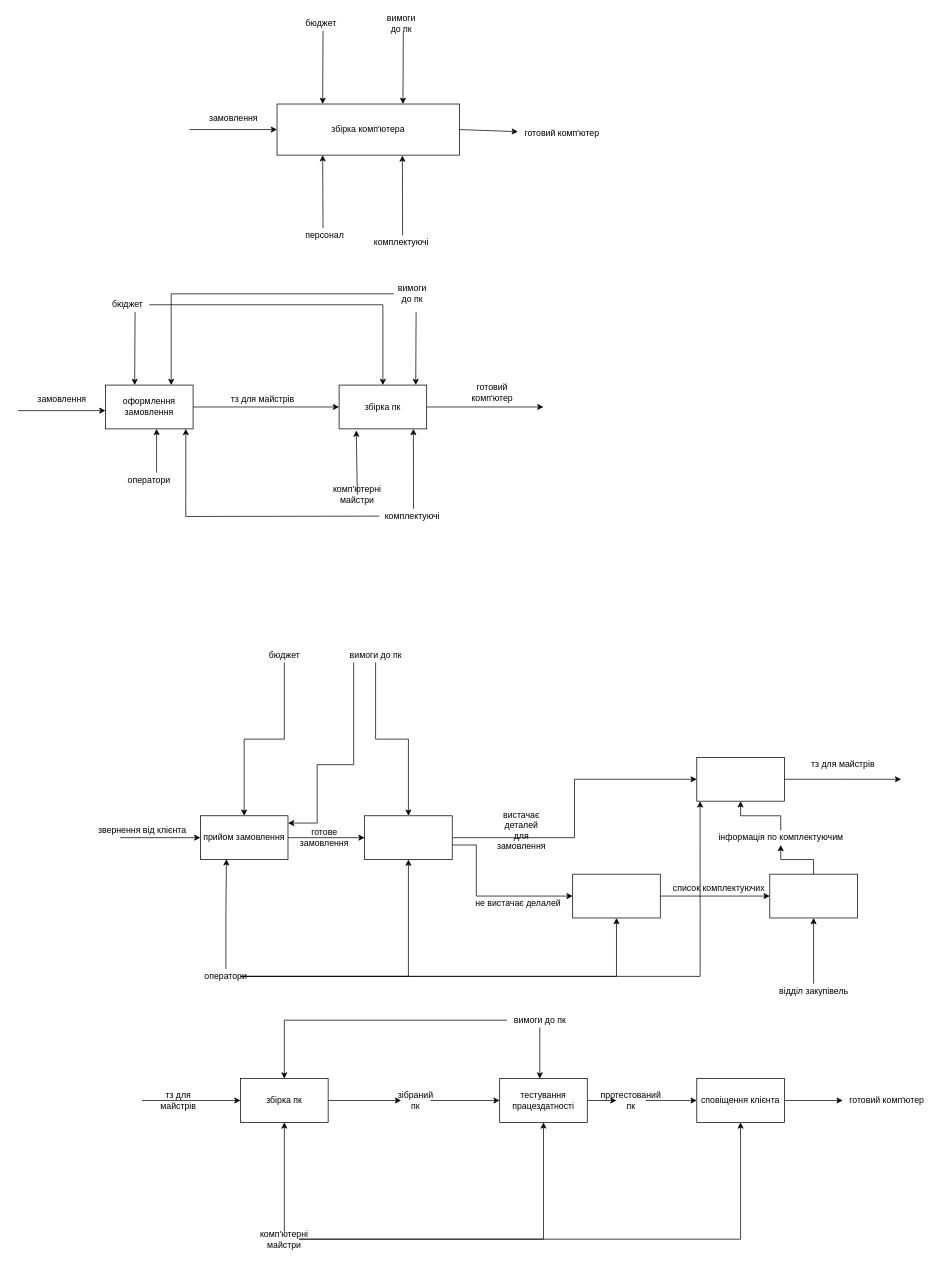
Some shapes in this 943 by 1262 pixel diagram are drawn without their labels. The shapes that lost their labels are listed below. From the top down, each one's centre as x and y in pixels, then its label:
At [740,779]: "додавання замовлення в графік".
At [408,837]: "перевірка наявності компонентів".
At [616,895]: "формування заявки у відділ закупівель".
At [813,895]: "закупівля комплектуючих".
